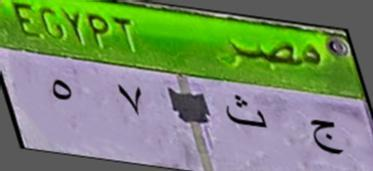5: (48, 76, 76, 108)
7: (117, 80, 150, 126)
jeem: (305, 112, 345, 160)
thaa: (223, 89, 272, 139)
